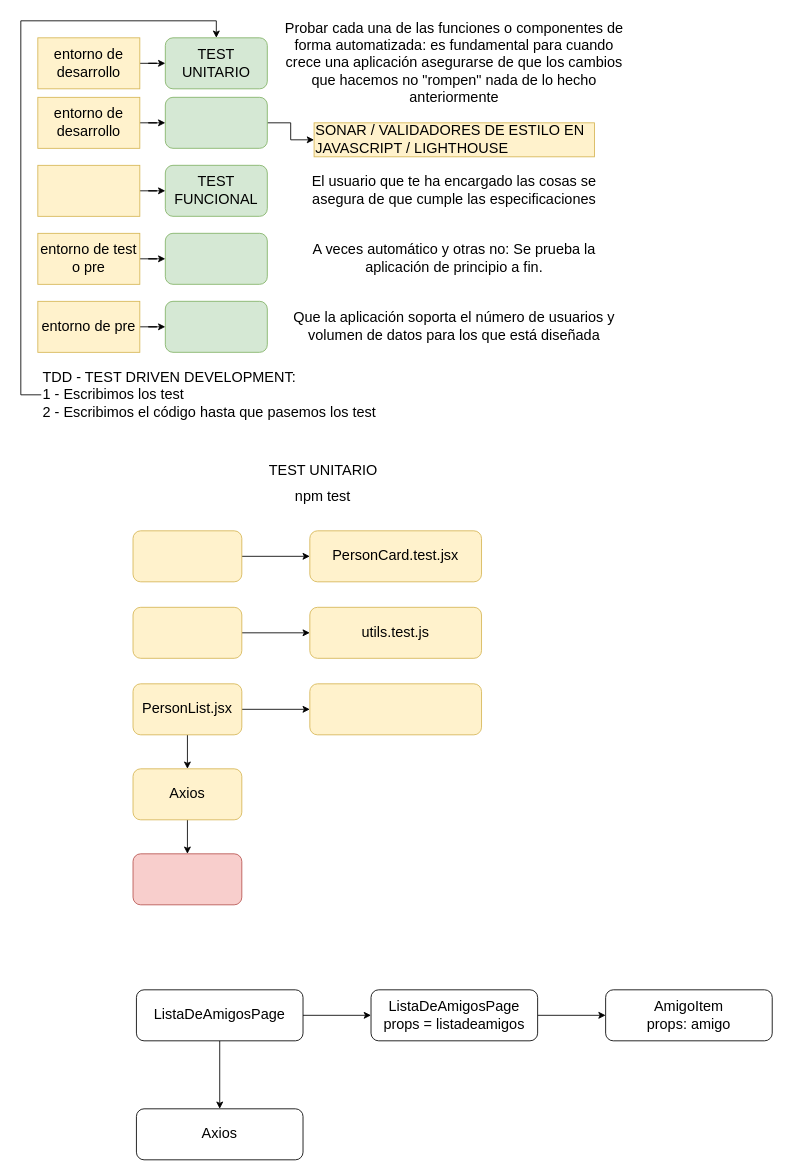
The diagram is 787 pixels wide and 1175 high, and some of its shapes have lost their labels. The shapes that lost their labels are listed below. From the top down, each one's centre as x and y in pixels, then its label:
(x=215, y=122): TEST DE CALIDAD DEL CÓDIGO
(x=88, y=190): entorno de test
(x=215, y=258): TEST end-to-end
(x=215, y=326): TEST NO FUNCIONAL
(x=187, y=556): PersonCard.jsx
(x=187, y=632): utils.js
(x=395, y=709): PersonList.test.jsx
(x=187, y=879): MOCK
